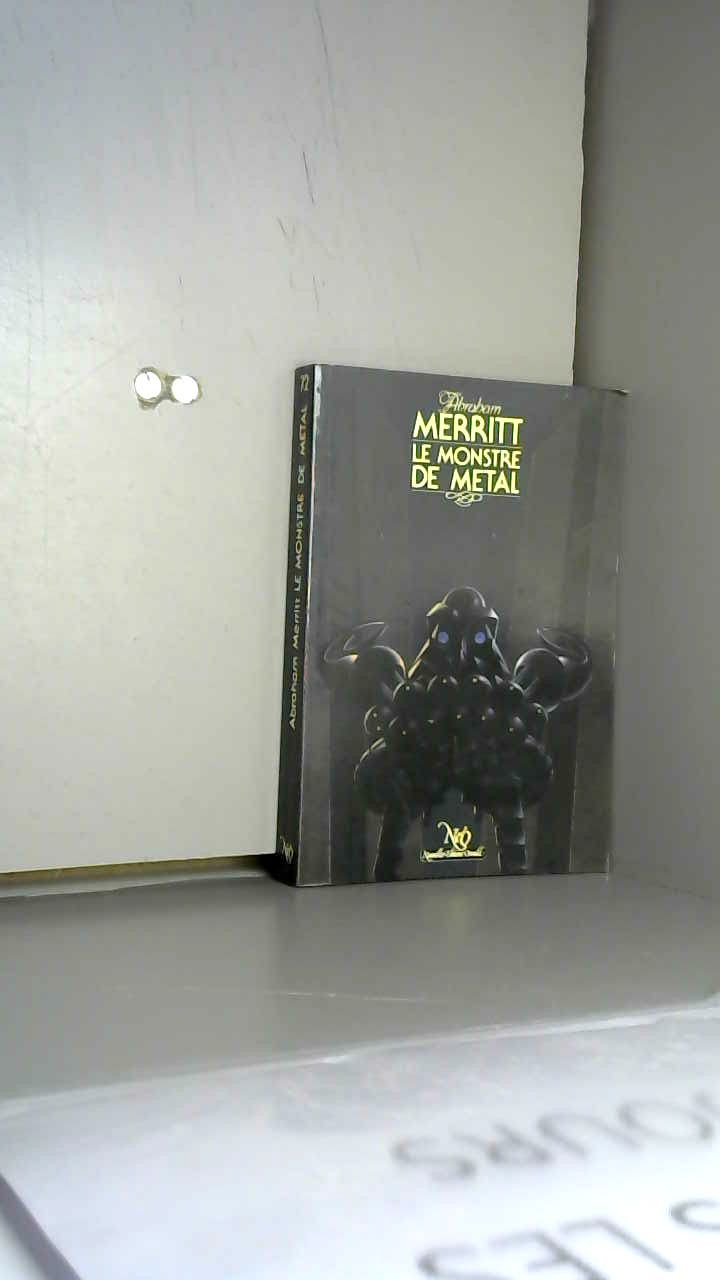book: (250, 340, 717, 914)
